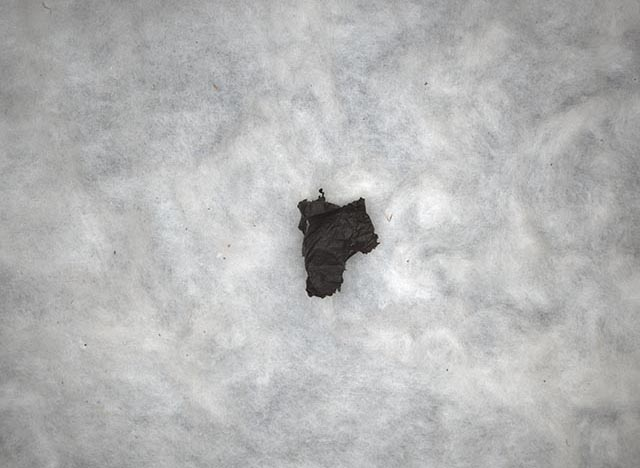plastic film: (295, 191, 381, 299)
